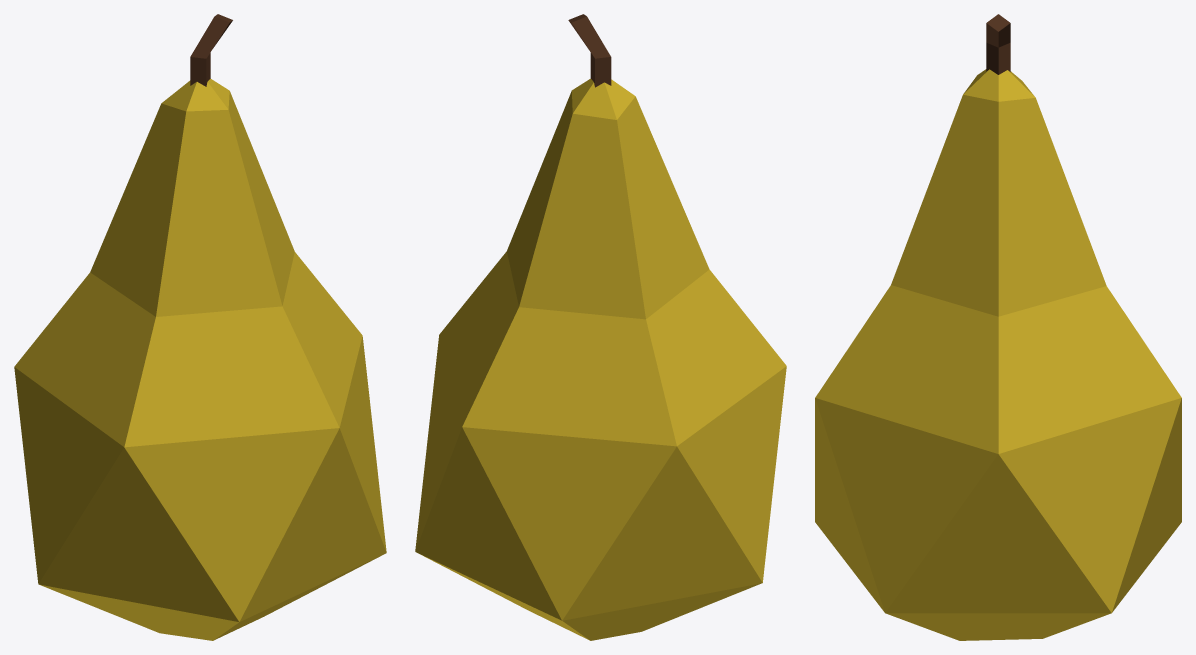
Rendered from pineapple.gltf.
3 views of the same model, side by side, from view 1: azimuth 30°, elevation 25°; view 2: azimuth 150°, elevation 25°; view 3: azimuth 270°, elevation 25° (orthographic). The views are drawn at different scales.
Parts seen in each view (by area): view 1: Icosphere.001; view 2: Icosphere.001; view 3: Icosphere.001.
Part boxes in pixels (x1,y1,x2,y2): Icosphere.001: [14, 14, 386, 640]; Icosphere.001: [415, 14, 786, 640]; Icosphere.001: [815, 14, 1181, 640].
Bounding box in the file's own units: 2.33 × 4.15 × 2.22.
